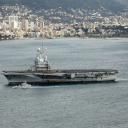Portanaves: (2, 41, 120, 86)
